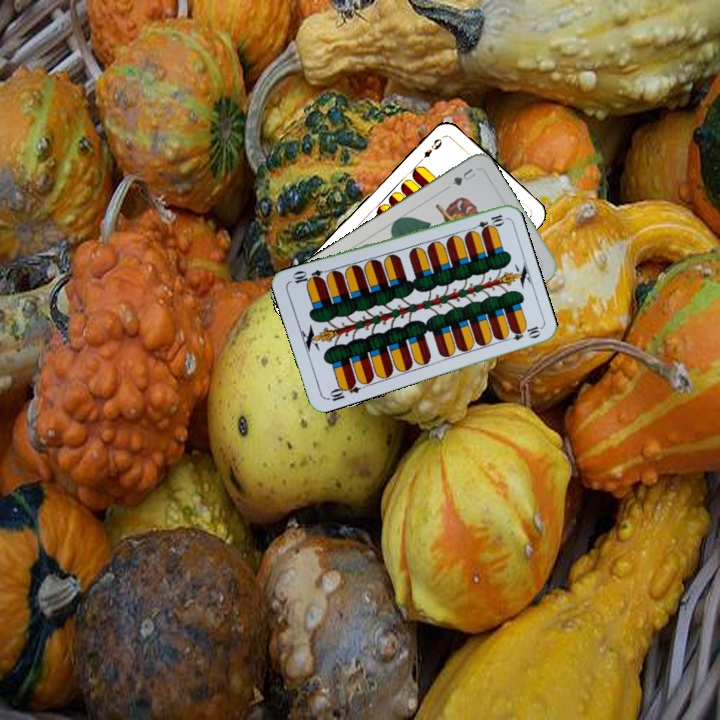E10: (323, 377, 363, 404), (467, 210, 507, 234)
E9: (414, 134, 445, 165)
GU: (448, 164, 479, 188)
